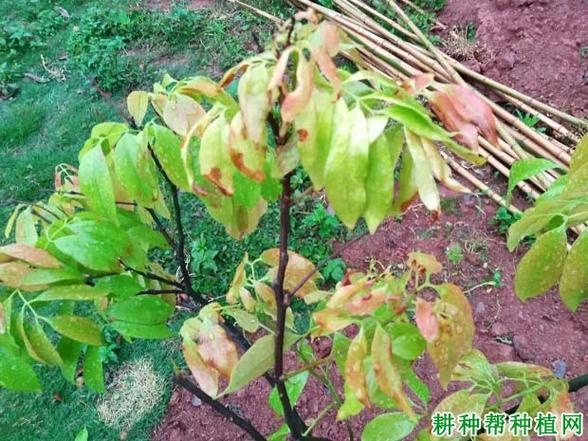Anthracnose: (267, 257, 437, 364), (273, 34, 350, 130), (170, 113, 252, 194), (169, 304, 241, 384), (14, 215, 80, 289)
